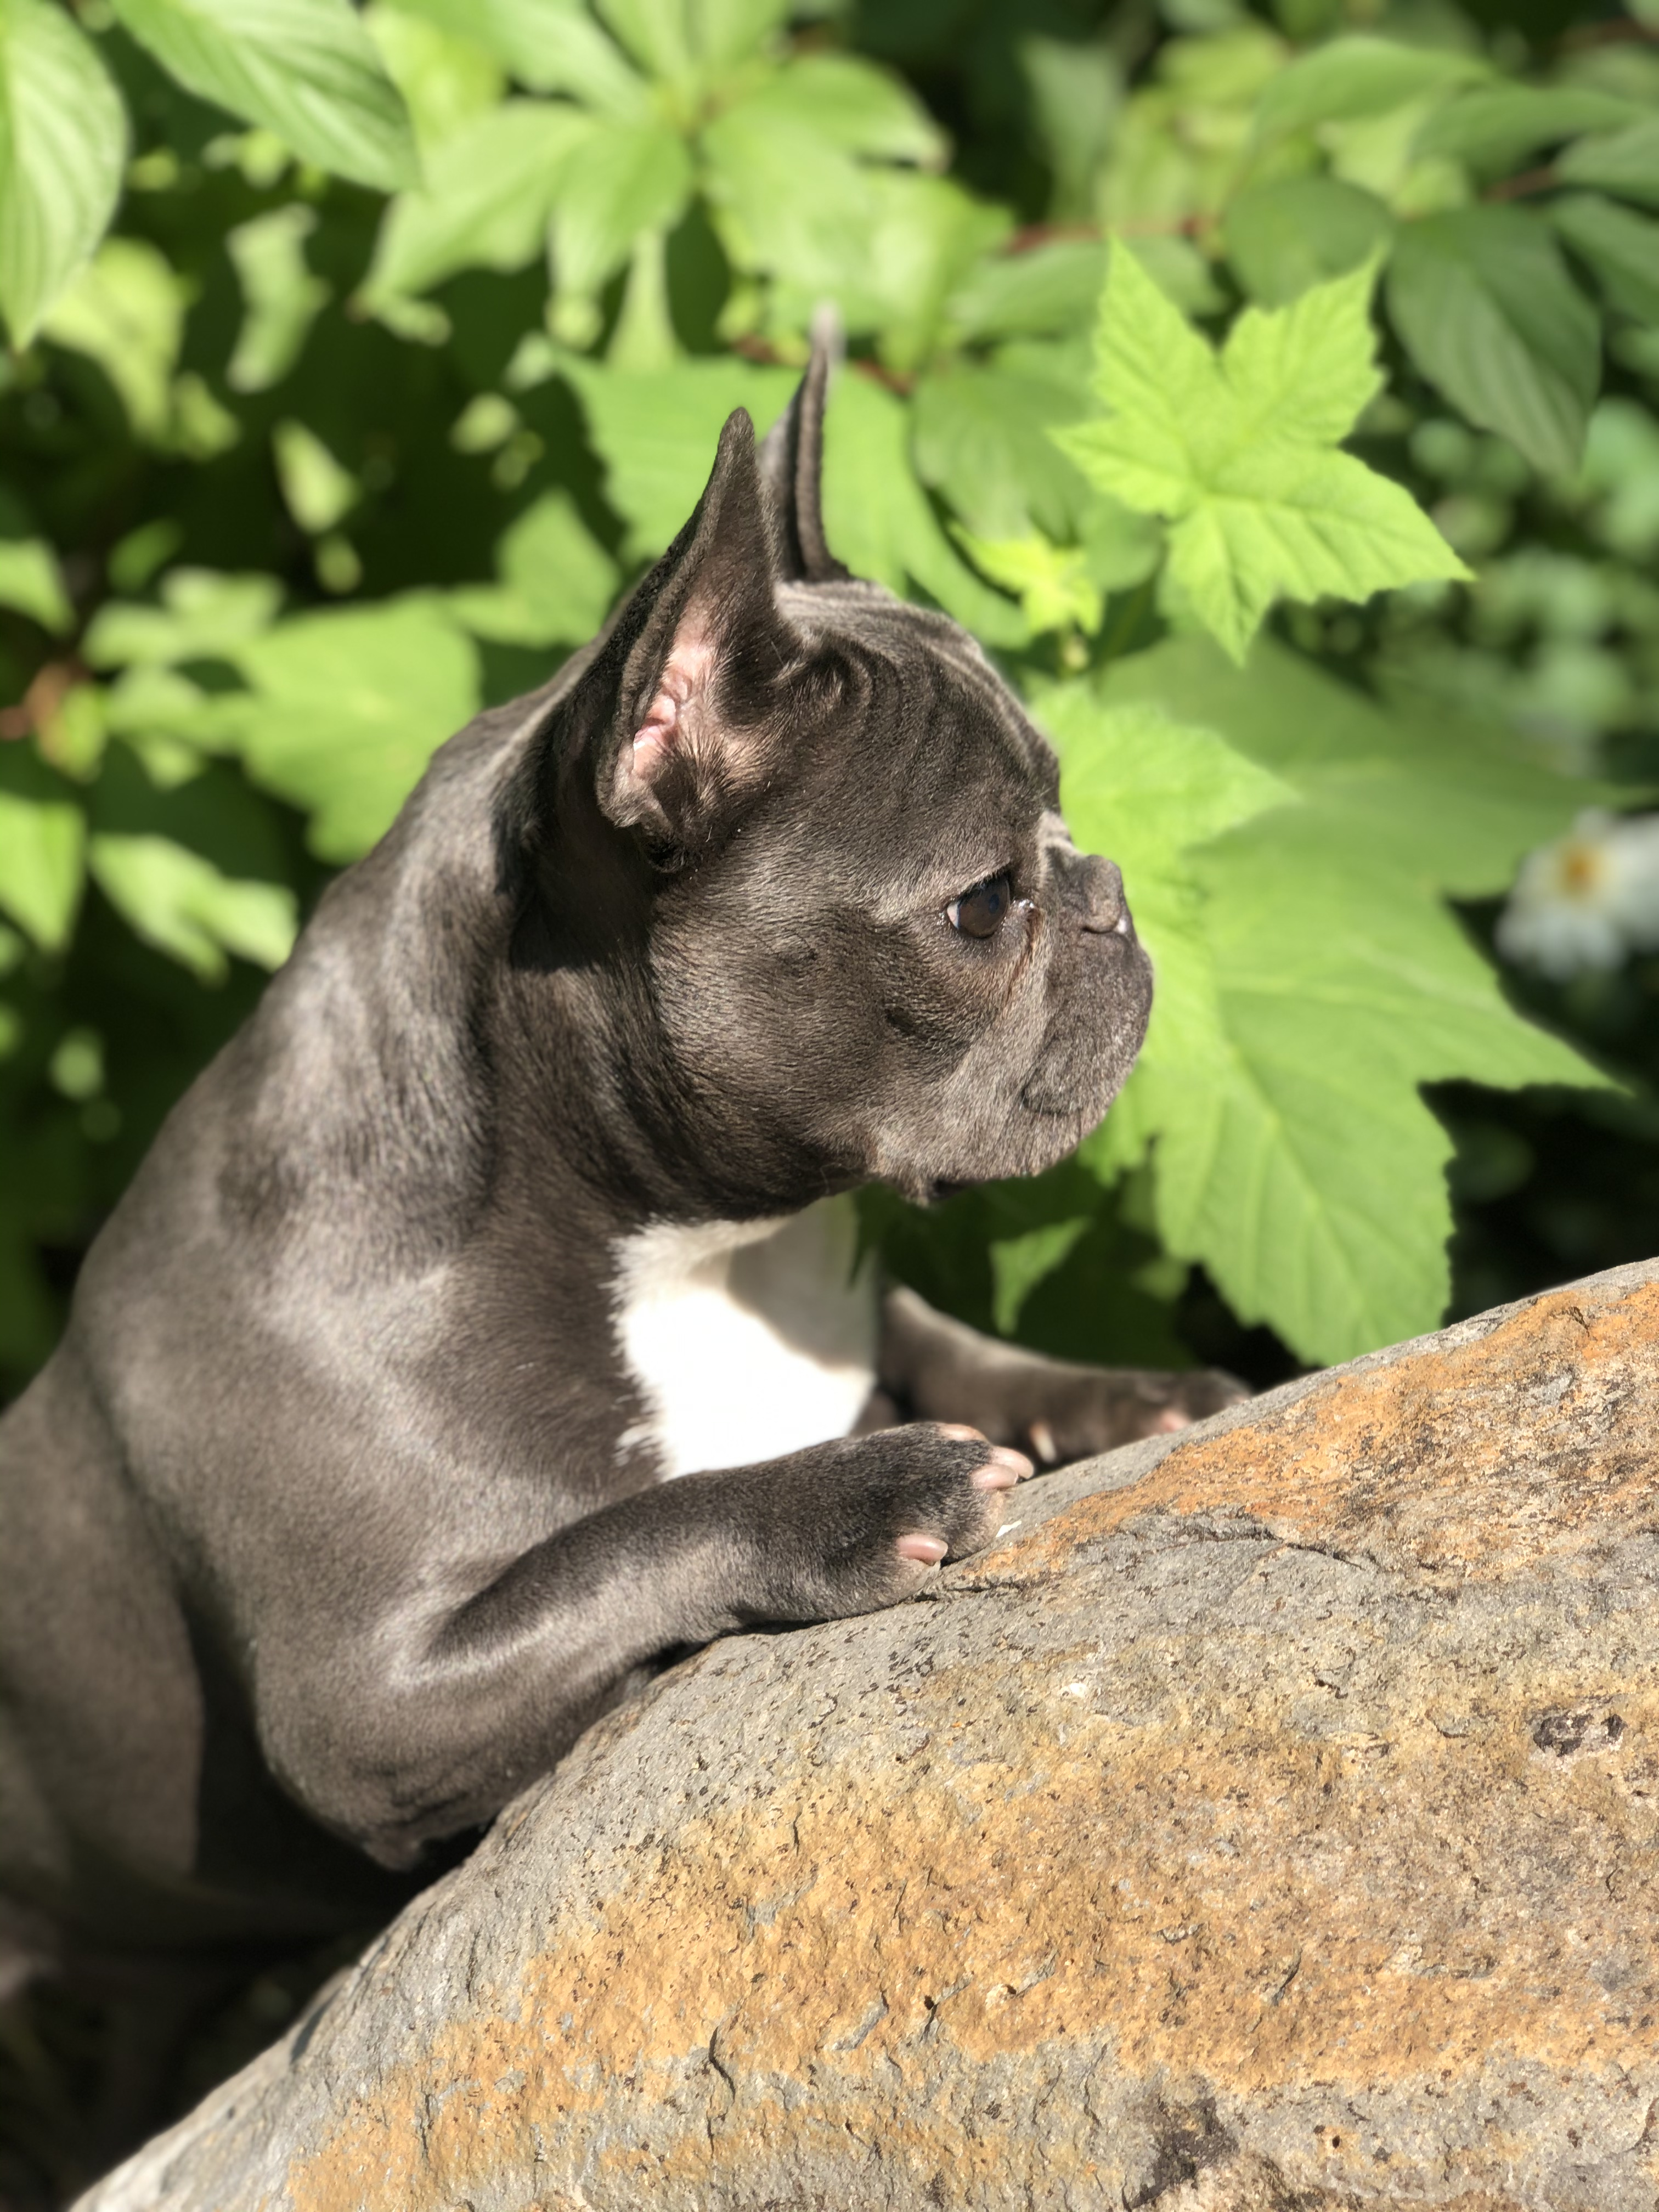lucy: (5, 324, 1246, 2099)
